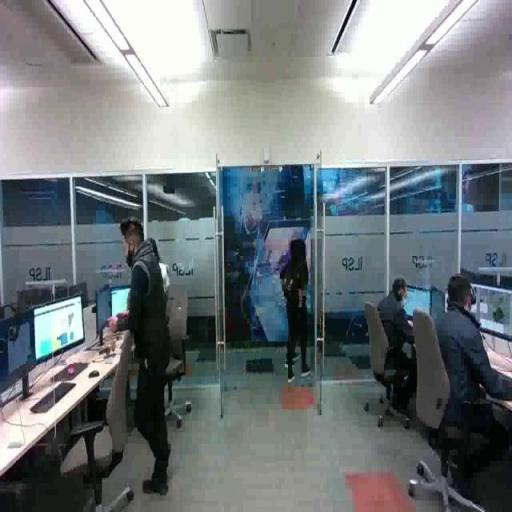person: (107, 212, 177, 501), (424, 272, 512, 500), (368, 276, 439, 429), (279, 235, 315, 386)
